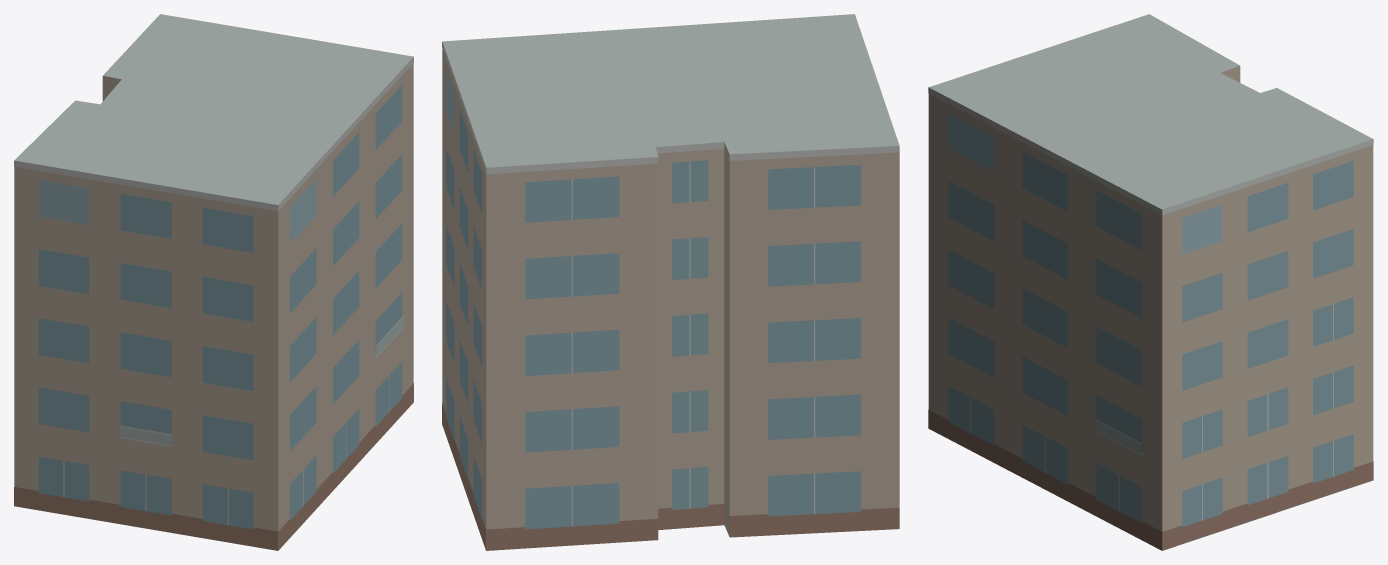
File: survey-upis-32745077.glb
The picture shows the model from 3 angles, left to right: view 1: azimuth 30°, elevation 25°; view 2: azimuth 150°, elevation 25°; view 3: azimuth 270°, elevation 25°; orthographic projection. The views are drawn at different scales.
Visible parts, largest first — view 1: survey-upis-32745077.tmp; view 2: survey-upis-32745077.tmp; view 3: survey-upis-32745077.tmp.
Boxes of the visible parts, <box> form: survey-upis-32745077.tmp: <box>14,14,413,550</box>; survey-upis-32745077.tmp: <box>442,14,899,550</box>; survey-upis-32745077.tmp: <box>928,14,1373,550</box>.
Size of the model in its own units: 17.34 by 14.1 by 16.67.
